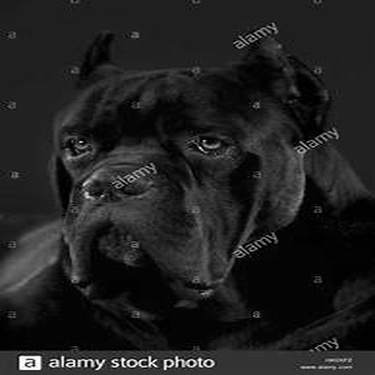dog: (1, 15, 372, 356)
